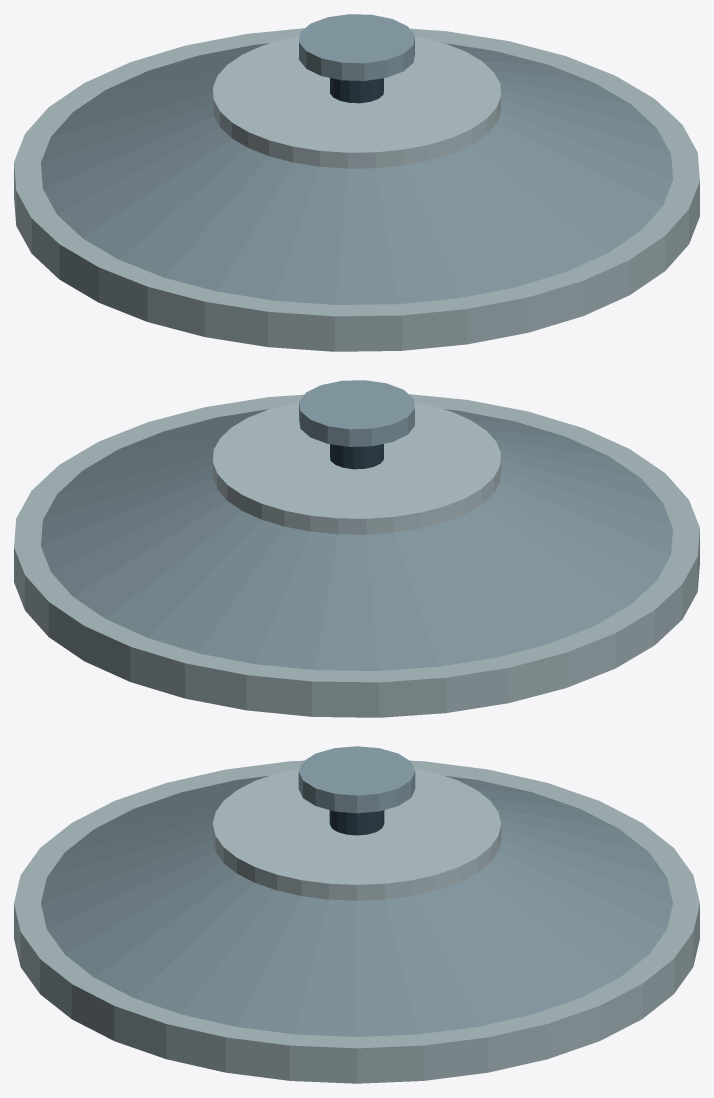
Rendered from SM_ColdLid.fbx.
3 views of the same model, one above another, from view 1: azimuth 30°, elevation 25°; view 2: azimuth 150°, elevation 25°; view 3: azimuth 270°, elevation 25° (orthographic).
Visible parts, largest first — view 1: SM_ColdLid; view 2: SM_ColdLid; view 3: SM_ColdLid.
Part boxes in pixels (x1=…): SM_ColdLid: x1=14, y1=14, x2=699, y2=351; SM_ColdLid: x1=14, y1=380, x2=699, y2=717; SM_ColdLid: x1=14, y1=746, x2=699, y2=1083.
Bounding box in the file's own units: 176 × 176 × 53.5.
